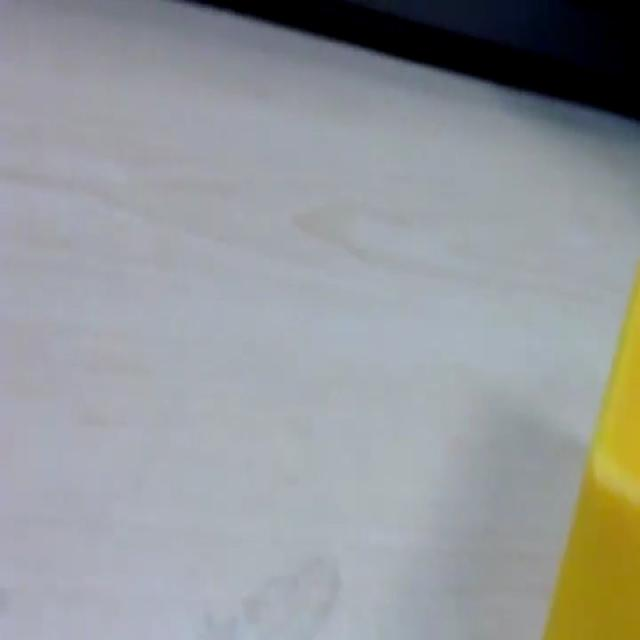yellow_block: (540, 259, 639, 637)
